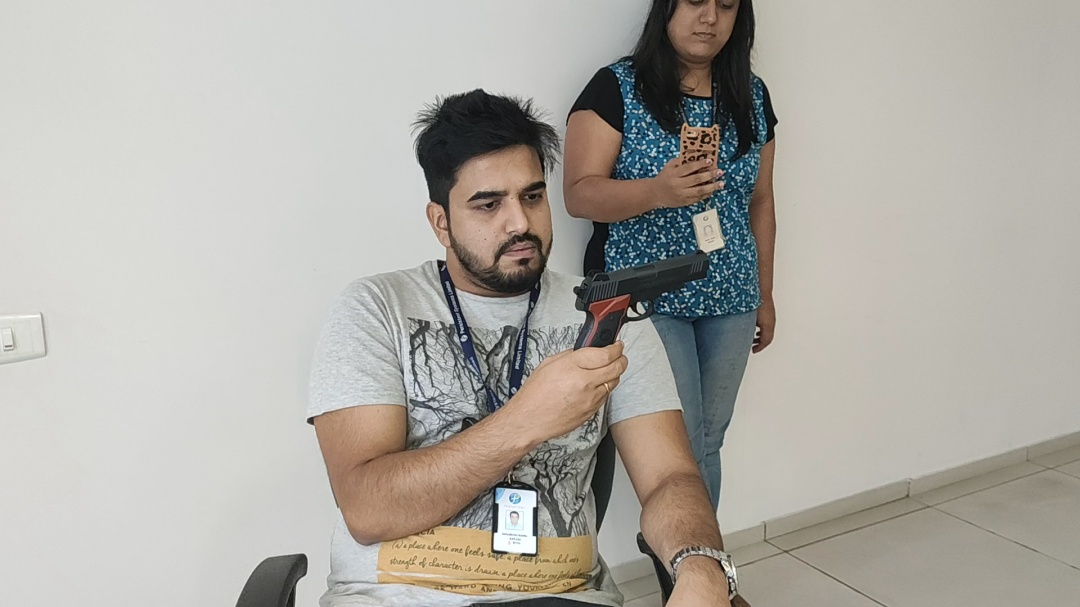gun: (571, 250, 713, 343)
